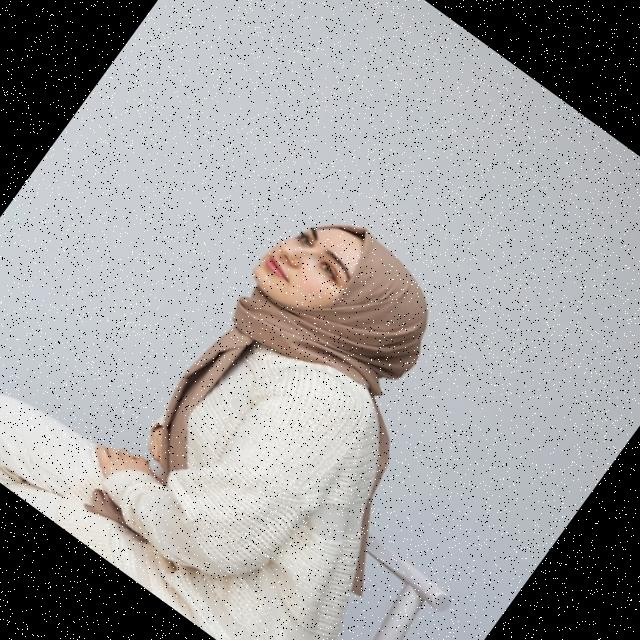Person: (0, 81, 560, 640)
